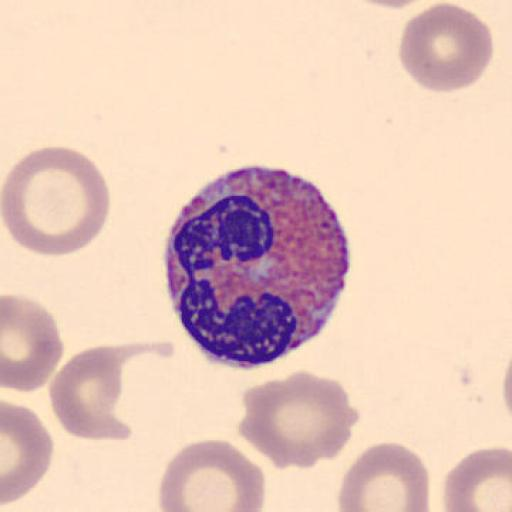RBC: (238, 368, 361, 471), (1, 144, 111, 258), (398, 1, 495, 95), (157, 437, 267, 512), (49, 343, 127, 443), (337, 440, 431, 512), (2, 292, 66, 393), (1, 400, 54, 506), (442, 444, 512, 512), (500, 346, 512, 425), (346, 0, 436, 10)
WBC: (163, 164, 352, 370)
